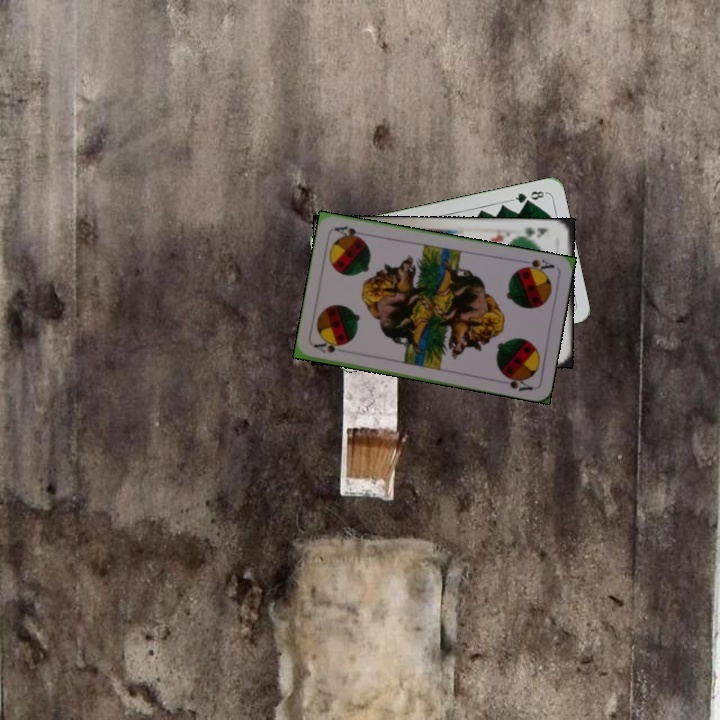G8: (508, 187, 549, 206)
GK: (517, 223, 550, 241)
SA: (516, 255, 557, 276), (310, 338, 345, 355)
